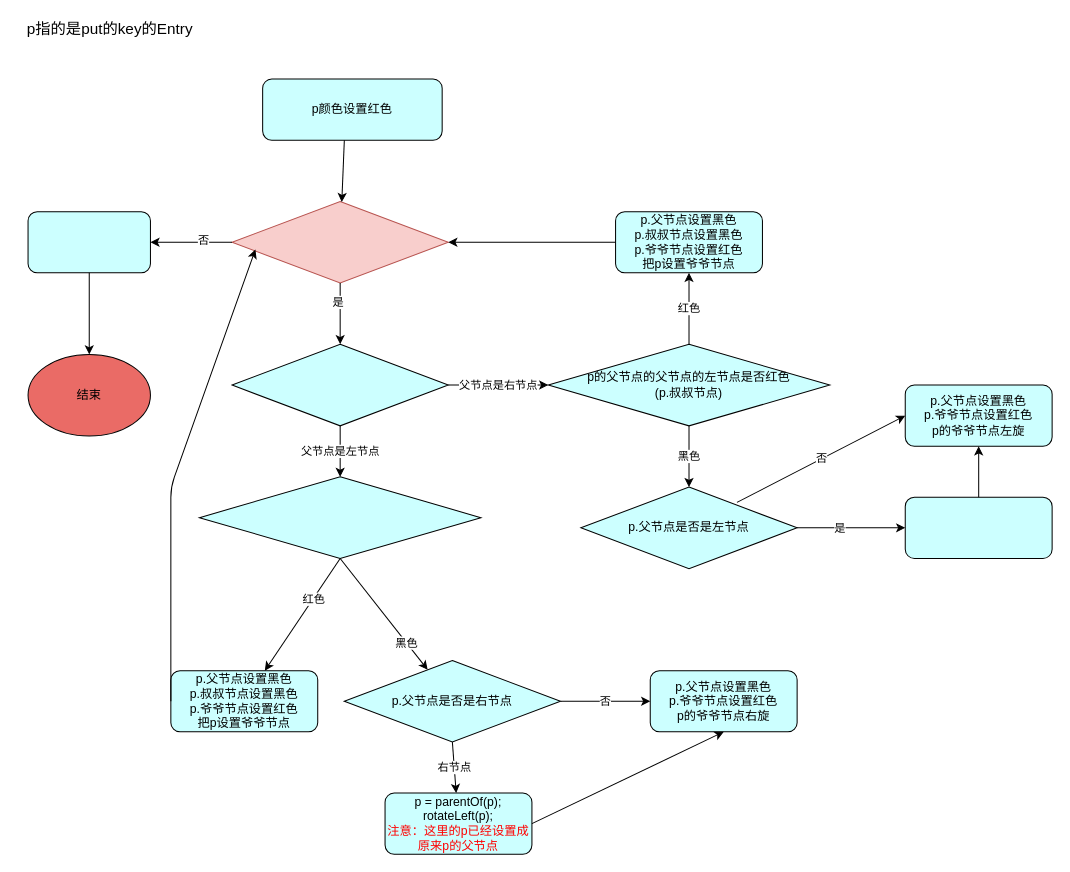
This 1070x872 diagram has some shape labels left out. The box of each missing label's shape, as (x1, y1, x2, y2) in pixels:
p = parentOf(p); rotateRight(p); 注意：这里的p已经设置成原来p的父节点: (904, 496, 1052, 558)
p的父节点是否是左节点: (231, 343, 448, 426)
p的父节点的父节点的右节点是否红色 (p.叔叔节点): (198, 476, 481, 558)
root的颜色设置黑色: (27, 211, 150, 273)
父节点不是root节点 p的父节点的颜色是红色: (231, 200, 448, 283)
